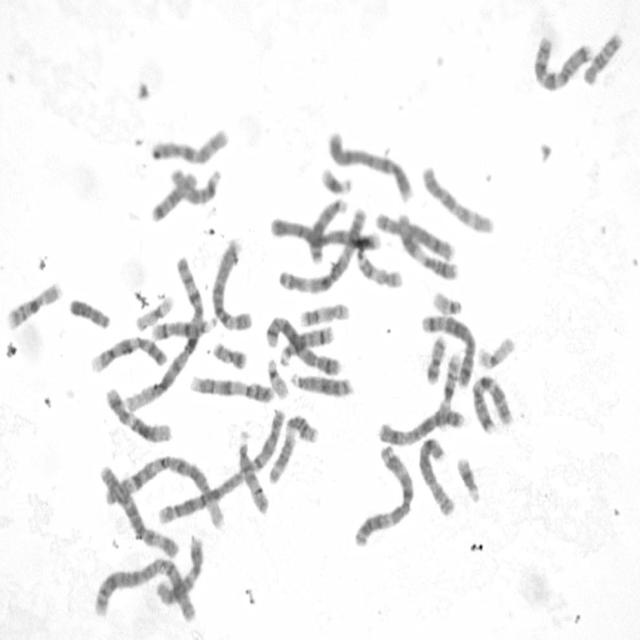A1: (122, 254, 206, 414), (98, 454, 228, 530)
A2: (154, 403, 289, 530), (90, 555, 198, 624)
A3: (274, 203, 372, 297), (350, 443, 414, 548)
B4: (324, 125, 415, 204), (268, 217, 382, 254)
B5: (262, 313, 341, 376), (418, 311, 477, 390)
C10: (418, 161, 496, 236), (148, 125, 231, 167)
C11: (396, 214, 458, 282), (266, 411, 320, 486)
C12: (102, 384, 173, 444), (153, 532, 204, 606)
C6: (98, 461, 181, 559), (208, 235, 253, 333)
C7: (530, 31, 593, 93), (470, 371, 514, 434)
C8: (373, 208, 457, 264), (374, 404, 466, 448)
C9: (88, 333, 170, 375), (187, 371, 276, 404)
D13: (306, 195, 348, 265), (288, 369, 355, 399)
D14: (277, 322, 335, 367), (149, 313, 217, 342)
D15: (234, 434, 270, 516), (168, 164, 222, 207)
E16: (4, 278, 64, 331), (435, 352, 464, 431)
E17: (355, 248, 404, 290), (297, 300, 351, 328)
E18: (148, 168, 198, 224), (580, 29, 622, 88)
F19: (133, 292, 175, 332), (475, 333, 516, 372)
F20: (424, 332, 448, 385), (211, 338, 248, 371)
G21: (454, 453, 482, 505), (319, 163, 353, 196)
G22: (264, 354, 290, 401), (430, 286, 464, 316)
X: (416, 433, 457, 518)
Y: (66, 294, 112, 330)
